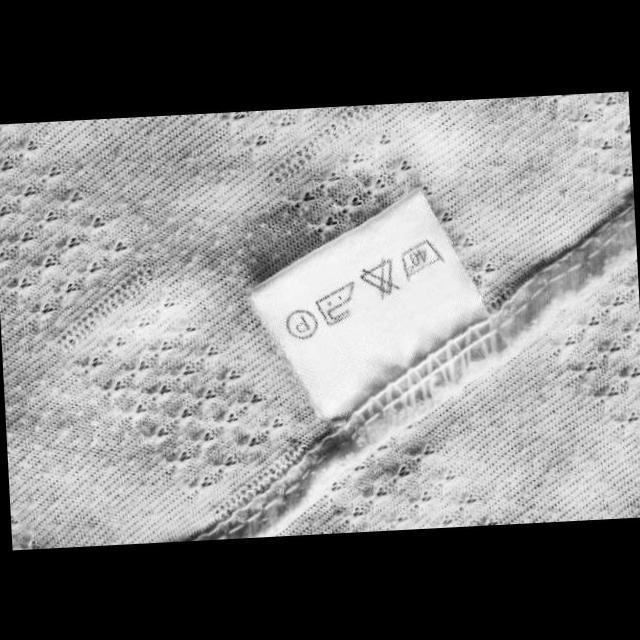40C: (396, 235, 449, 282)
DN_bleach: (354, 254, 404, 302)
iron_medium: (310, 280, 358, 328)
normal_dry_clean_solvents: (282, 305, 318, 341)
